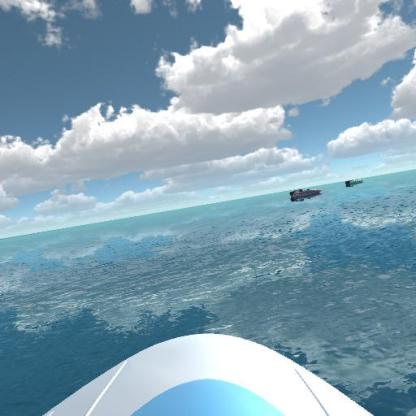usv0: (344, 174, 365, 190)
usv3: (287, 185, 326, 201)
